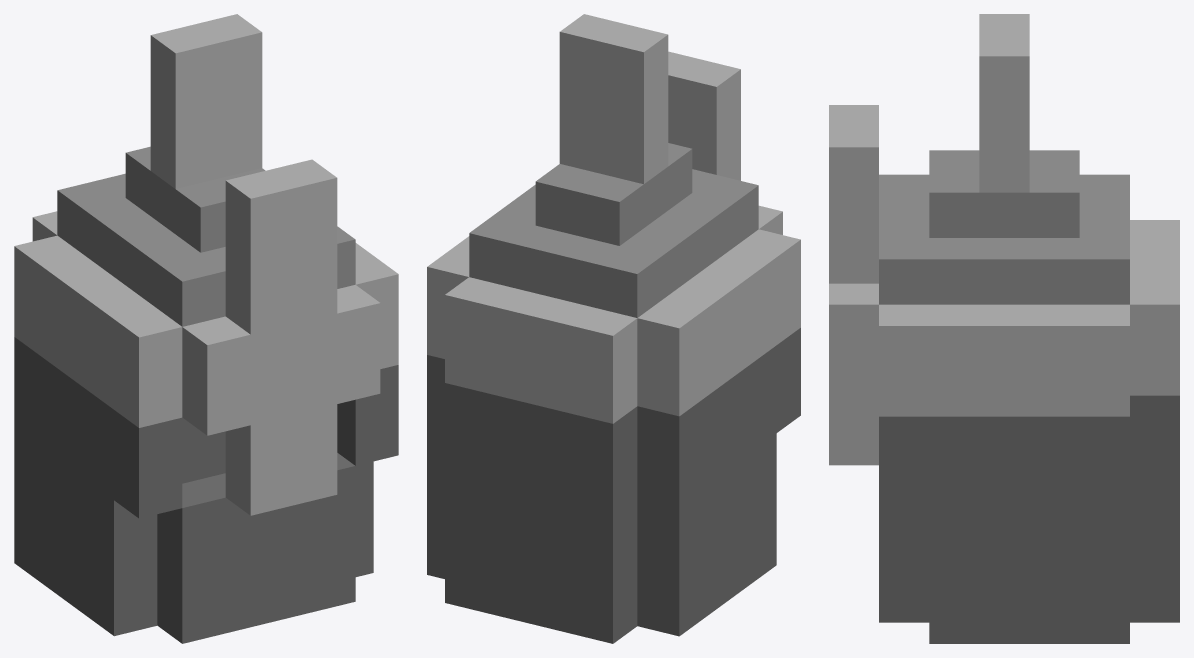
Rendered from char-4-helm_hvy_2c_sh.obj.
3 views of the same model, side by side, from view 1: azimuth 30°, elevation 25°; view 2: azimuth 150°, elevation 25°; view 3: azimuth 270°, elevation 25° (orthographic). The views are drawn at different scales.
Parts seen in each view (by area): view 1: helm_hvy_2c_sh; view 2: helm_hvy_2c_sh; view 3: helm_hvy_2c_sh.
Boxes of the visible parts, box(x1,y1,x2,y2) form: helm_hvy_2c_sh: box(14, 14, 398, 643); helm_hvy_2c_sh: box(427, 14, 800, 643); helm_hvy_2c_sh: box(829, 14, 1179, 643).
Bounding box in the file's own units: 0.6 × 1.2 × 0.7.
Materials: 1 (1 with a texture image).
